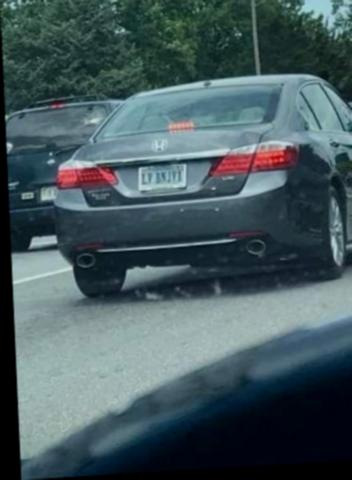License_Plate: (130, 155, 198, 199)
